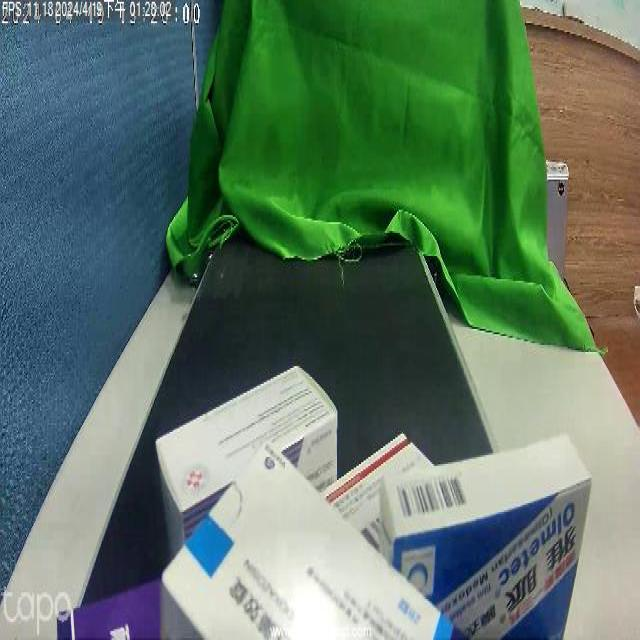box: (383, 446, 581, 640), (205, 485, 413, 640), (158, 386, 318, 529)
